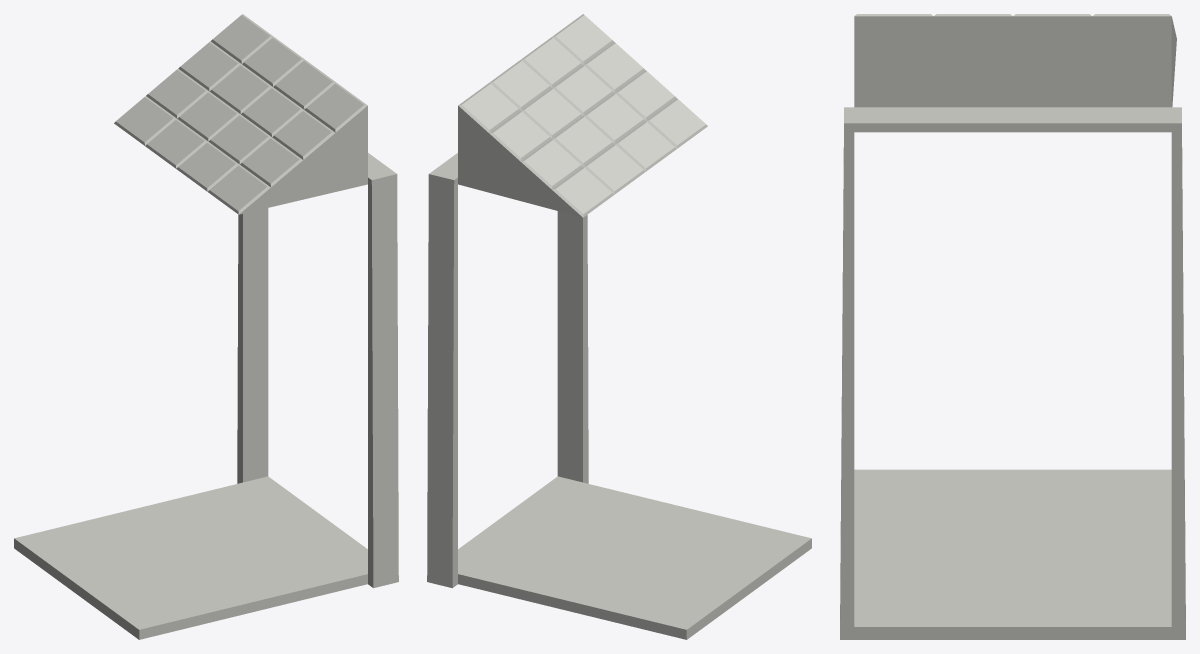
Rendered from door entrance.fbx.
3 renders of one model, left to right at view 1: azimuth 30°, elevation 25°; view 2: azimuth 150°, elevation 25°; view 3: azimuth 270°, elevation 25°, orthographic. The views are drawn at different scales.
Parts seen in each view (by area): view 1: Cube.004; view 2: Cube.004; view 3: Cube.004.
Boxes of the visible parts, x1,y1,x2,y2 form: Cube.004: [14, 14, 398, 639]; Cube.004: [427, 14, 811, 639]; Cube.004: [840, 14, 1185, 639].
Bounding box in the file's own units: 100 × 180 × 92.83.
